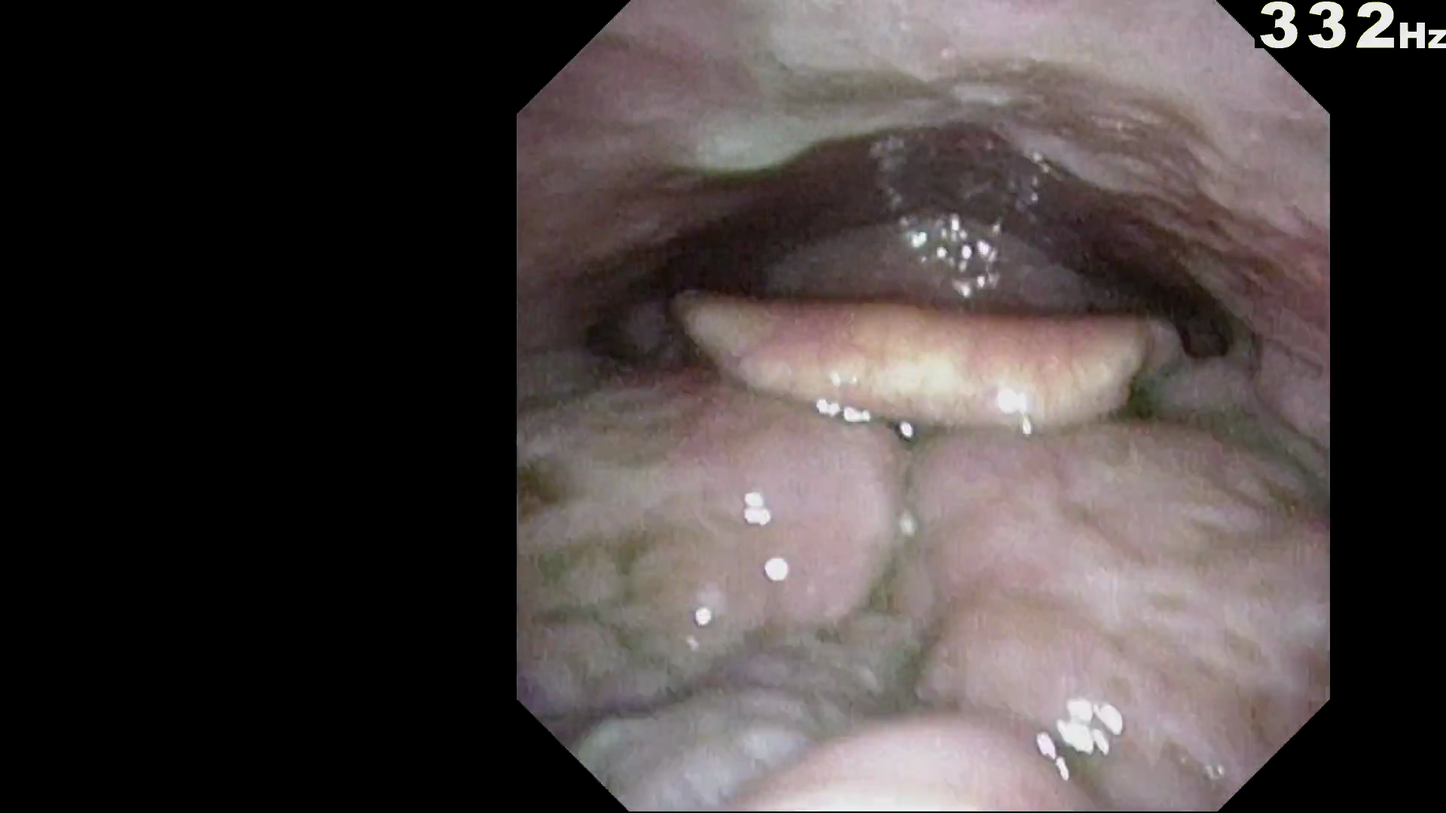epiglottis: (618, 284, 1230, 444)
